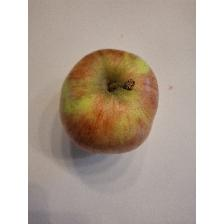Apfel: (55, 46, 161, 156)
